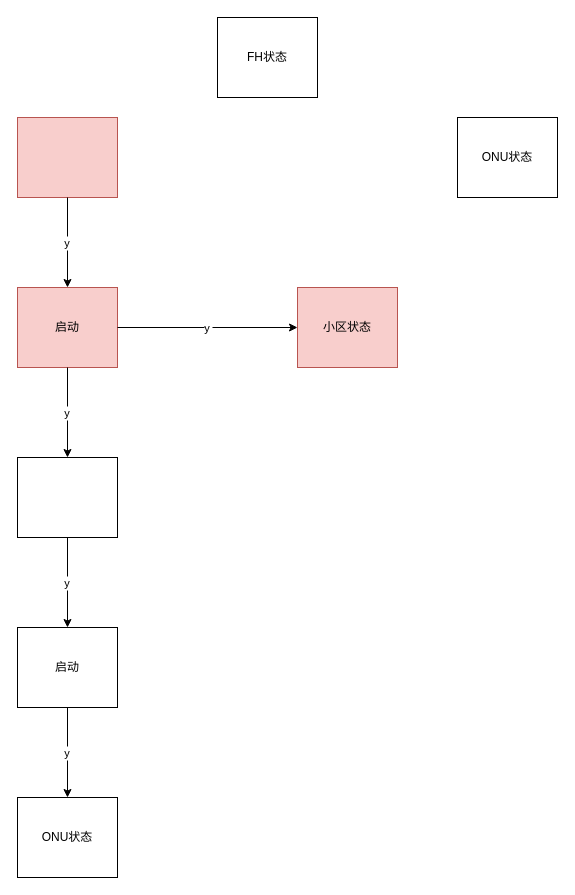
The diagram is 575 pixels wide and 895 high, and some of its shapes have lost their labels. The shapes that lost their labels are listed below. From the top down, each one's box as (x1, y1, x2, y2) in pixels, then its label:
(16, 116, 118, 198): 更新
(16, 456, 118, 538): RU状态
